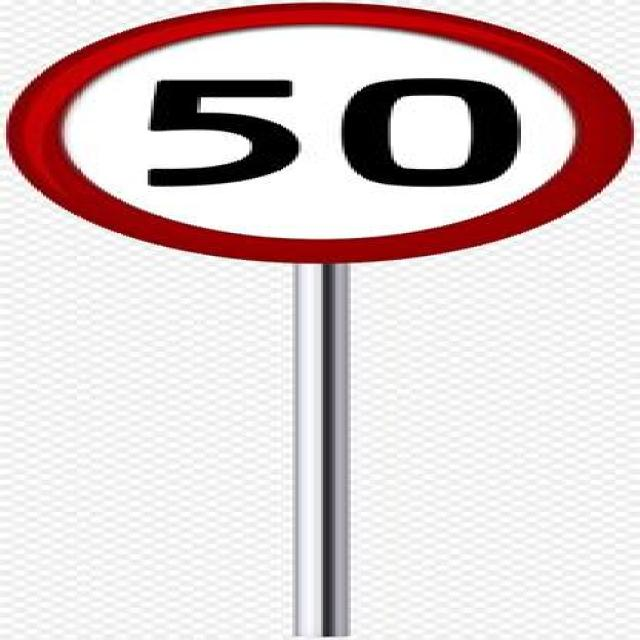speed limit 50: (6, 0, 640, 264)
